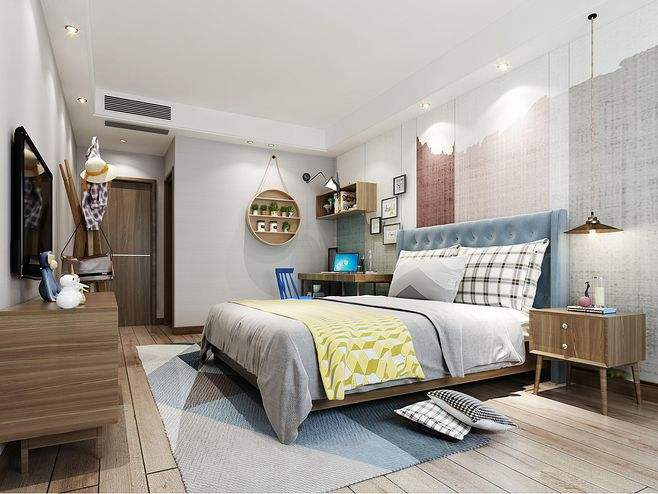床: (211, 291, 546, 416)
枕头: (389, 242, 551, 309), (401, 391, 513, 444)
灯: (562, 18, 629, 243), (302, 169, 343, 196), (59, 24, 79, 39), (499, 61, 515, 75), (420, 101, 434, 115), (73, 97, 87, 107), (119, 138, 129, 147)
